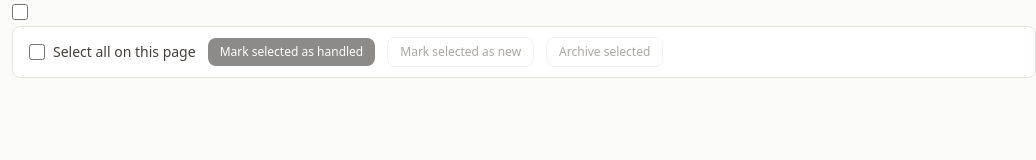
Scenario: BulkActionBar — error banner persists when all items are deselected, clears on successful retry › keeps the error banner visible after a status action fails and all items are deselected, then clears it on a successful retry
The width and height of the screenshot is (1036, 160).
Click the checkbox named "Select inquiry": (20, 12) 12,4 -> 28,20
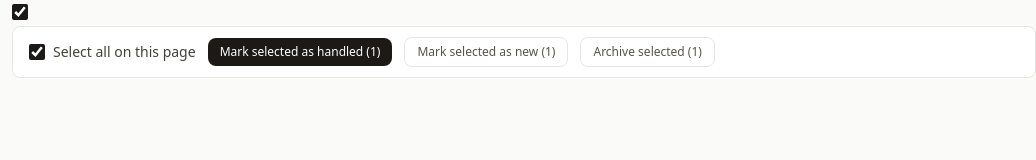
Click the button "Mark selected as handled (1)": (300, 52) 208,38 -> 392,66
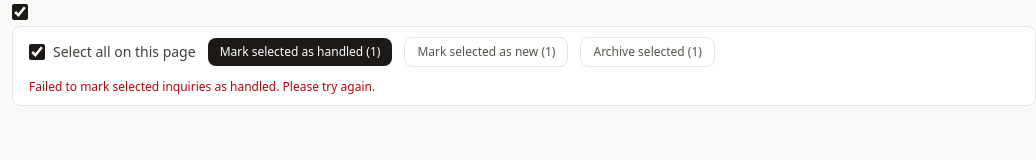
Now the text "Failed to mark selected inquiries as handled. Please try again." is shown, box 29,79 -> 375,95
Click the checkbox named "Select inquiry": (20, 12) 12,4 -> 28,20
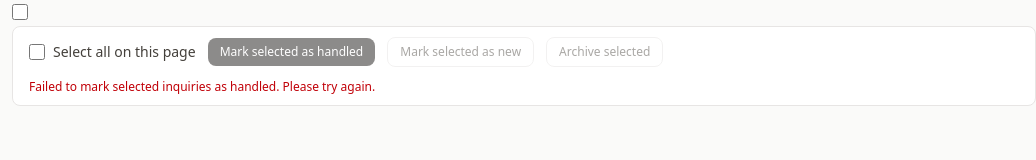
Now the text "Failed to mark selected inquiries as handled. Please try again." is shown, box 29,79 -> 375,95
Now the button "Mark selected as handled" is disabled, box 208,38 -> 375,66
Click the checkbox named "Select inquiry": (20, 12) 12,4 -> 28,20
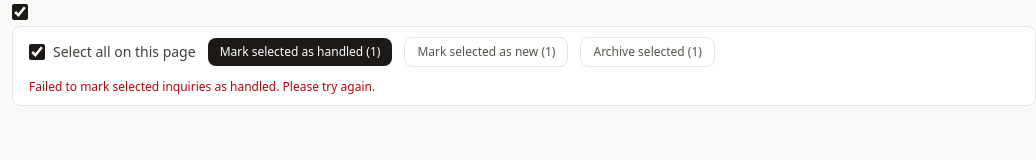
Click the button "Mark selected as handled (1)": (300, 52) 208,38 -> 392,66
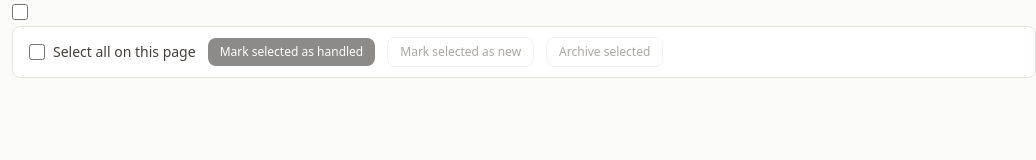
Now the text "Failed to mark selected inquiries as handled" is gone
